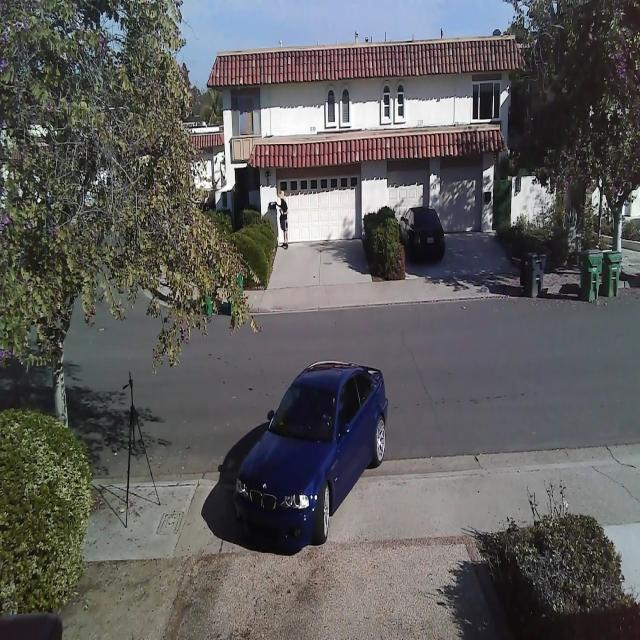Carbeetle: (227, 355, 388, 568)
Civilian: (399, 205, 445, 263)
